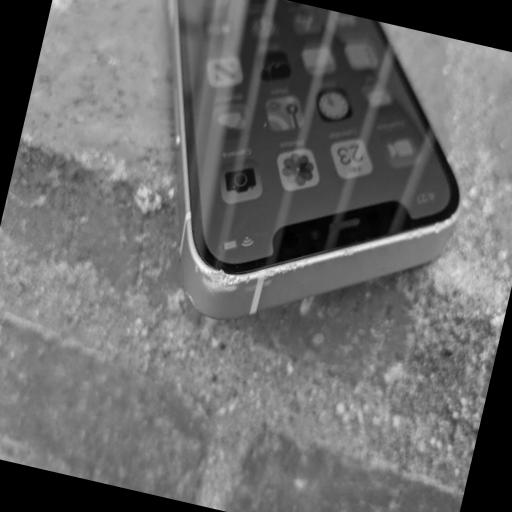phone: (165, 0, 463, 339)
